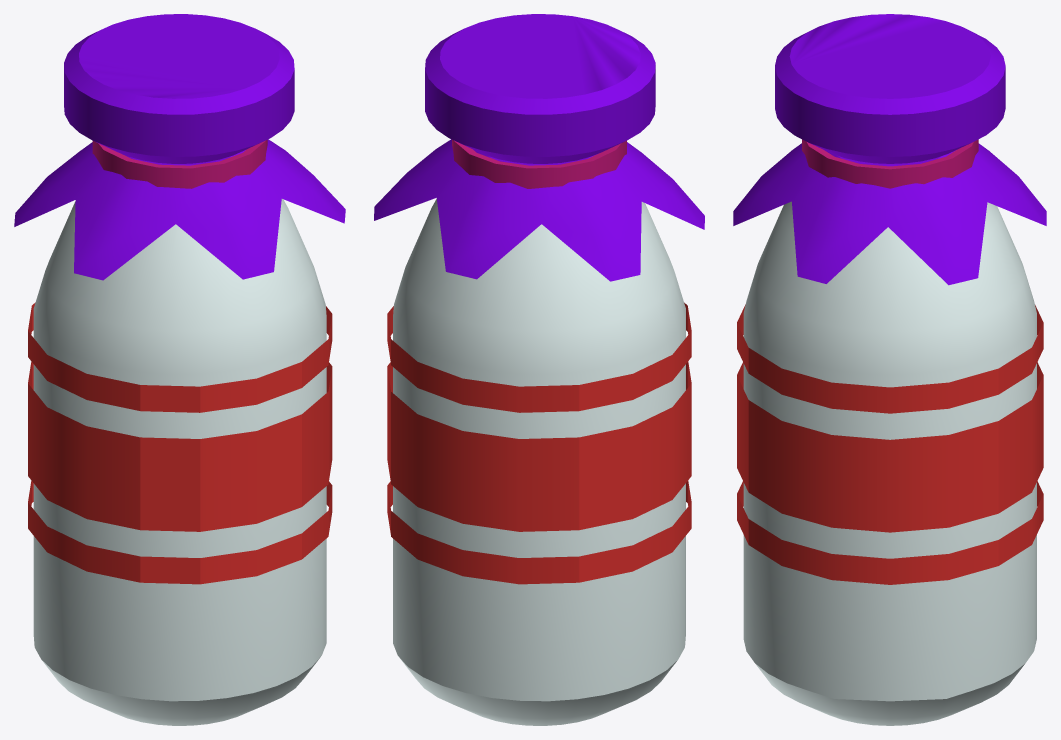
Rendered from milk.fbx.
The picture shows the model from 3 angles, left to right: view 1: azimuth 30°, elevation 25°; view 2: azimuth 150°, elevation 25°; view 3: azimuth 270°, elevation 25°; orthographic projection.
Parts seen in each view (by area): view 1: bottle; view 2: bottle; view 3: bottle.
Part boxes in pixels (x1=…): bottle: x1=14, y1=14, x2=345, y2=725; bottle: x1=374, y1=14, x2=704, y2=725; bottle: x1=733, y1=14, x2=1046, y2=725.
Size of the model in its own units: 214 by 476 by 214.
